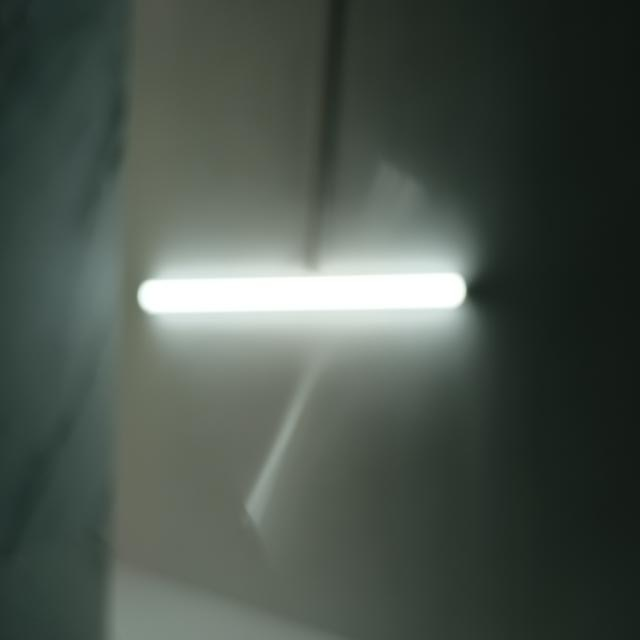fluorescent tube: (130, 243, 485, 343)
